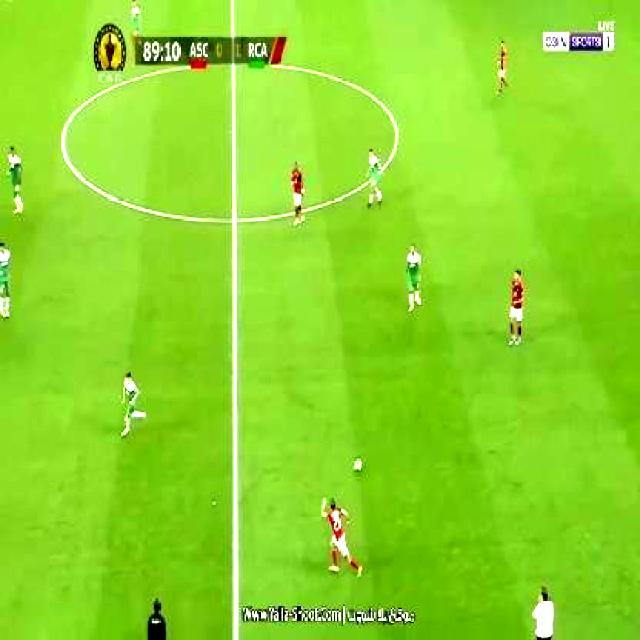halfcircle_bottom: (222, 202, 246, 238)
